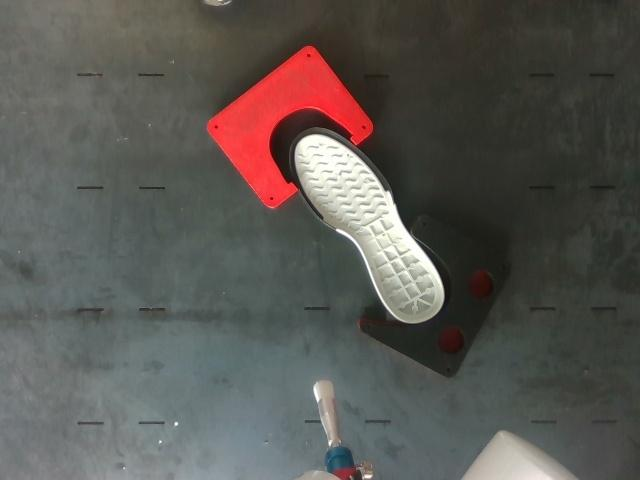shoes: (291, 129, 445, 323)
